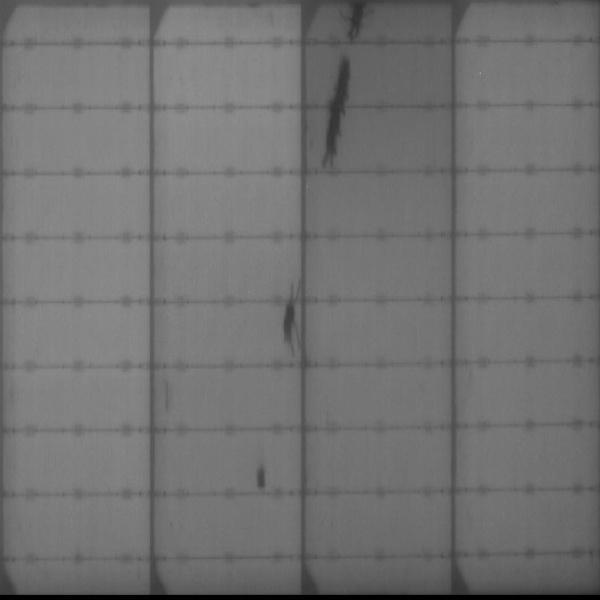broken: (317, 56, 354, 166), (278, 283, 299, 360), (339, 1, 370, 42), (255, 461, 269, 492)
